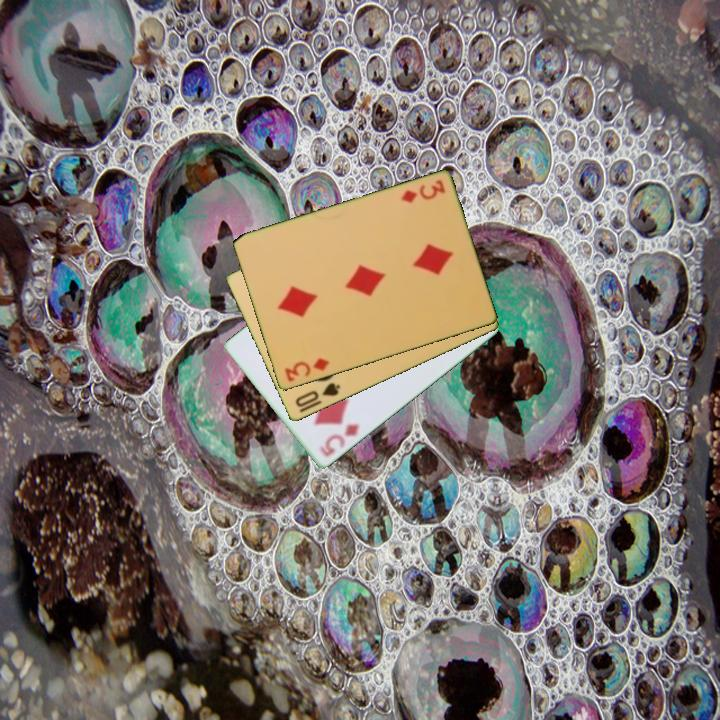10s: (291, 379, 343, 410)
3d: (281, 355, 332, 385), (397, 176, 448, 206)
5d: (315, 420, 363, 460)
